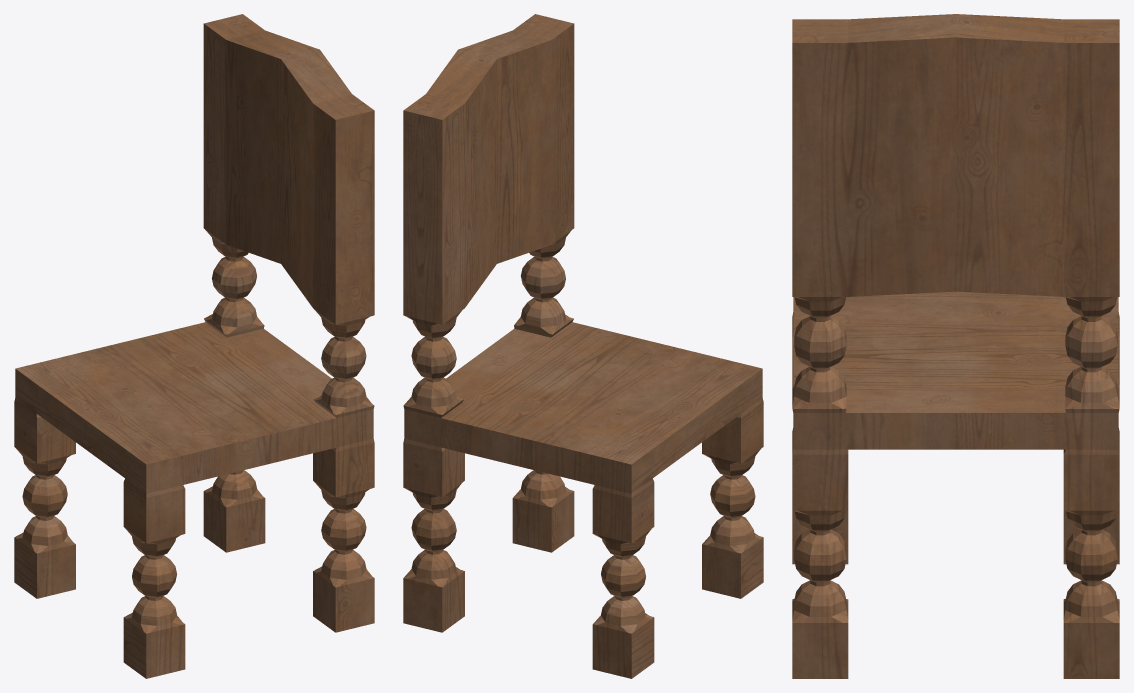
File: chair.gltf
The picture shows the model from 3 angles, left to right: view 1: azimuth 30°, elevation 25°; view 2: azimuth 150°, elevation 25°; view 3: azimuth 270°, elevation 25°; orthographic projection. The views are drawn at different scales.
Parts seen in each view (by area): view 1: chair.001; view 2: chair.001; view 3: chair.001.
Part boxes in pixels (x1,y1,x2,y2): chair.001: [14, 14, 374, 678]; chair.001: [403, 14, 763, 678]; chair.001: [792, 14, 1119, 678].
Size of the model in its own units: 0.0316 by 0.0659 by 0.0301.
Materials: 1 (1 with a texture image).
